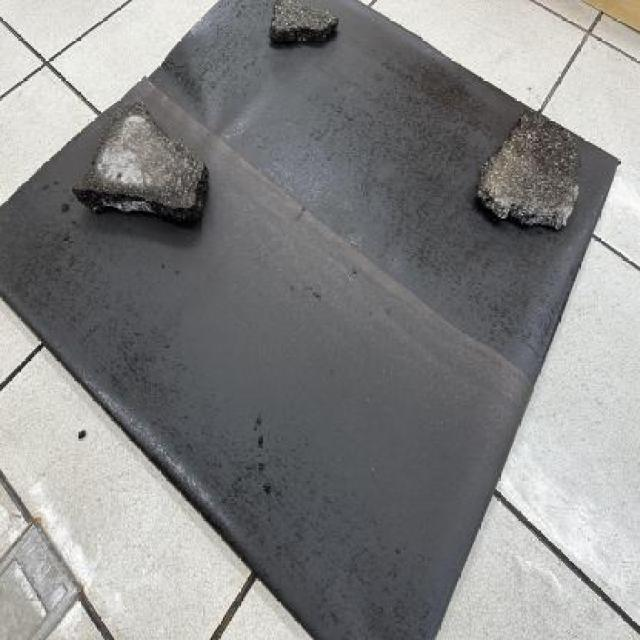Road Debris: (93, 90, 172, 226), (100, 575, 169, 640), (2, 392, 36, 496), (152, 186, 154, 188)
